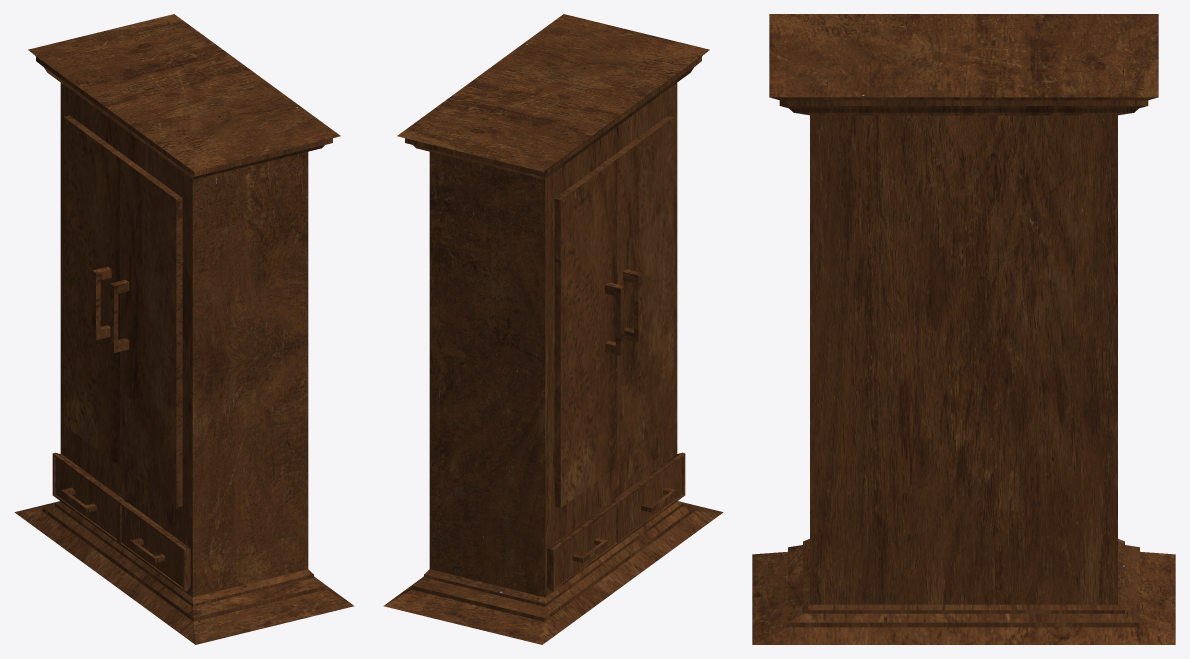
The model's file is armario.fbx.
The picture shows the model from 3 angles, left to right: view 1: azimuth 30°, elevation 25°; view 2: azimuth 150°, elevation 25°; view 3: azimuth 270°, elevation 25°; orthographic projection. The views are drawn at different scales.
Visible parts, largest first — view 1: Cube; view 2: Cube; view 3: Cube.
Boxes of the visible parts, box(x1,y1,x2,y2) form: Cube: box(14, 14, 354, 644); Cube: box(383, 14, 723, 644); Cube: box(752, 14, 1175, 644).
Size of the model in its own units: 276 by 772 by 544.
Materials: 1 (1 with a texture image).
